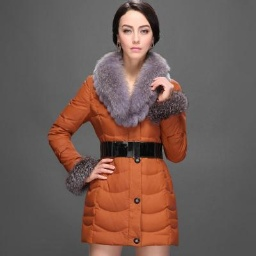face: (101, 1, 172, 65)
